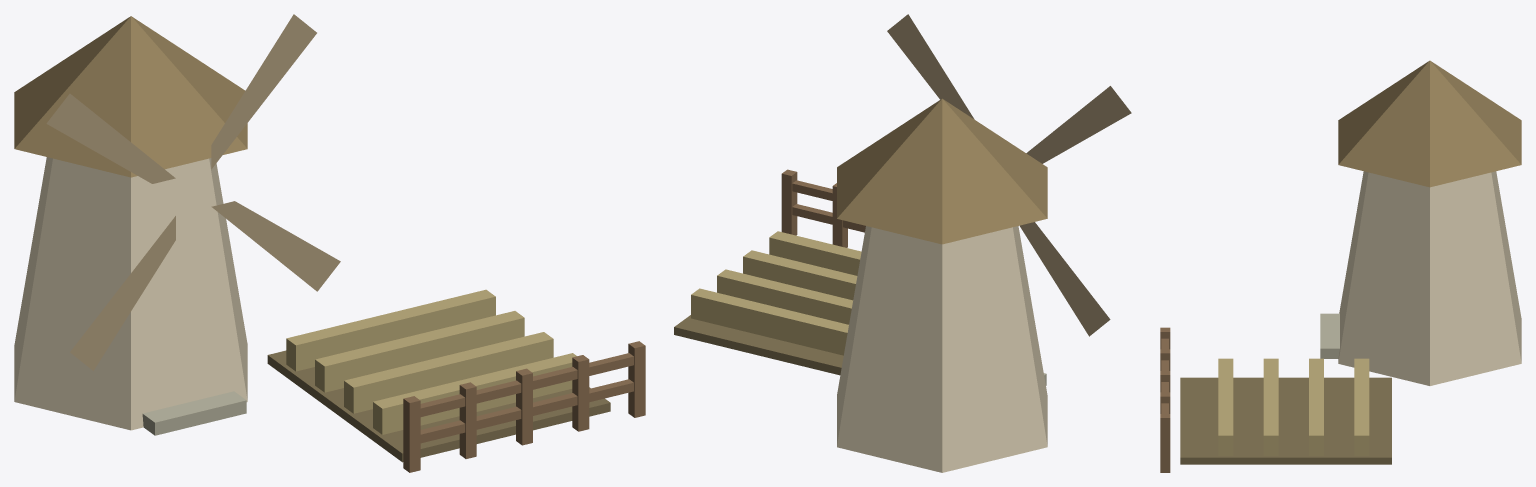
File: farm.glb
3 views of the same model, side by side, from view 1: azimuth 30°, elevation 25°; view 2: azimuth 150°, elevation 25°; view 3: azimuth 270°, elevation 25° (orthographic). The views are drawn at different scales.
Visible parts, largest first — view 1: Building; view 2: Building; view 3: Building.
Part boxes in pixels (x1,y1,x2,y2): Building: (14,14,645,472); Building: (674,14,1131,472); Building: (1160,60,1521,472).
Bounding box in the file's own units: 58.83 × 43.68 × 47.77.
